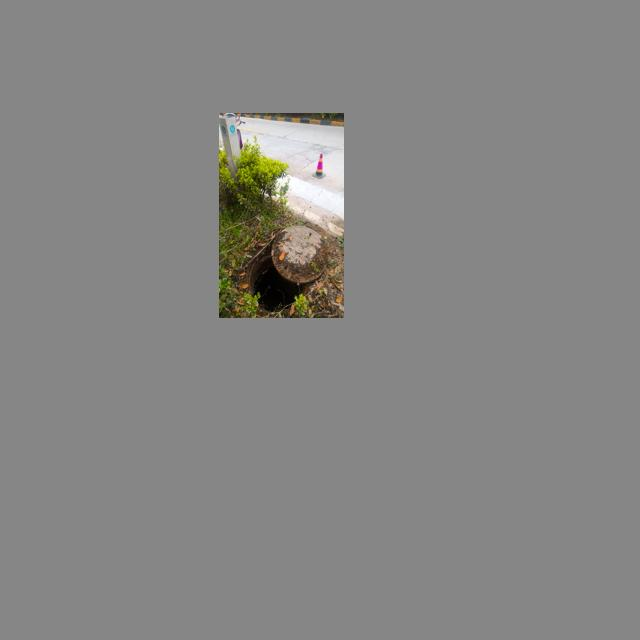uncovered: (242, 224, 327, 309)
